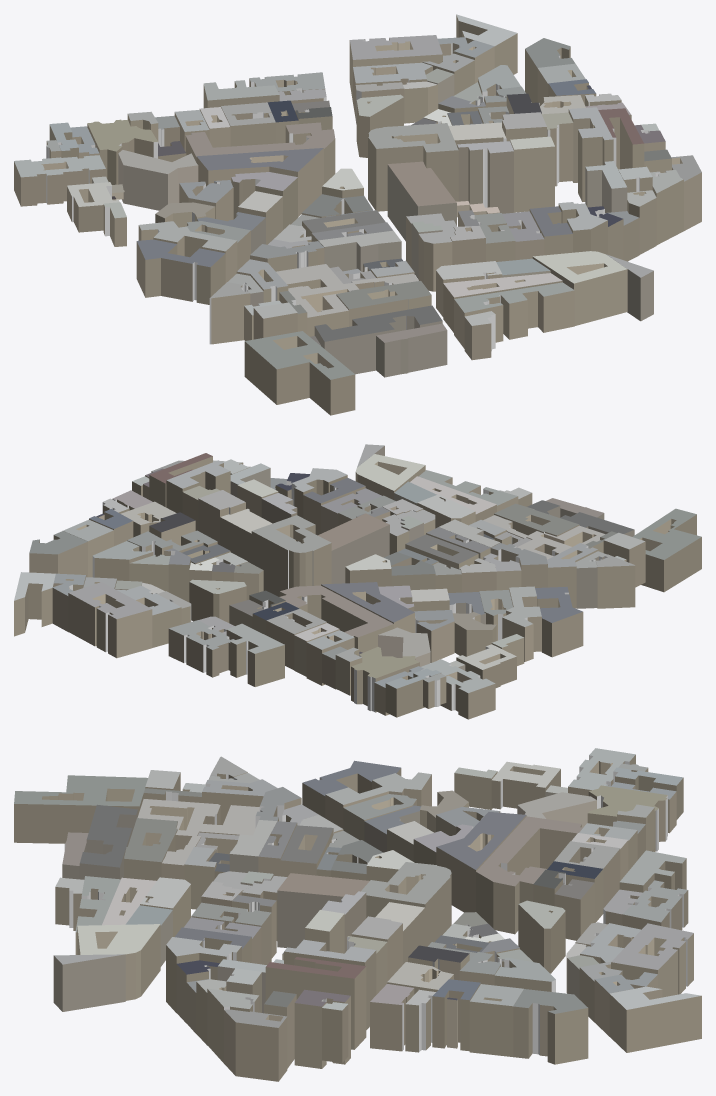
The picture shows the model from 3 angles, top to bottom: view 1: azimuth 30°, elevation 25°; view 2: azimuth 150°, elevation 25°; view 3: azimuth 270°, elevation 25°; orthographic projection. The views are drawn at different scales.
Parts seen in each view (by area): view 1: tuile; view 2: tuile; view 3: tuile.
Part boxes in pixels (<box>): tuile: <box>14,14,701,415</box>; tuile: <box>14,444,701,719</box>; tuile: <box>14,748,701,1081</box>.
Bounding box in the file's own units: 280 × 43.72 × 289.
